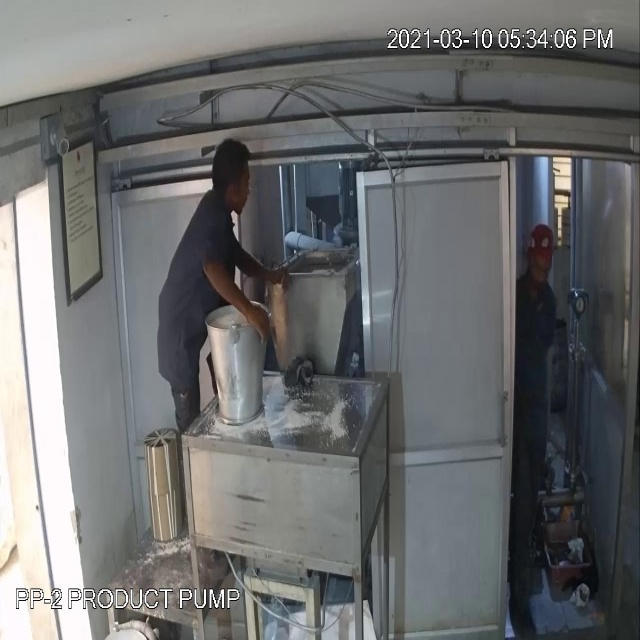Sin_guantes: (194, 241, 278, 354)
